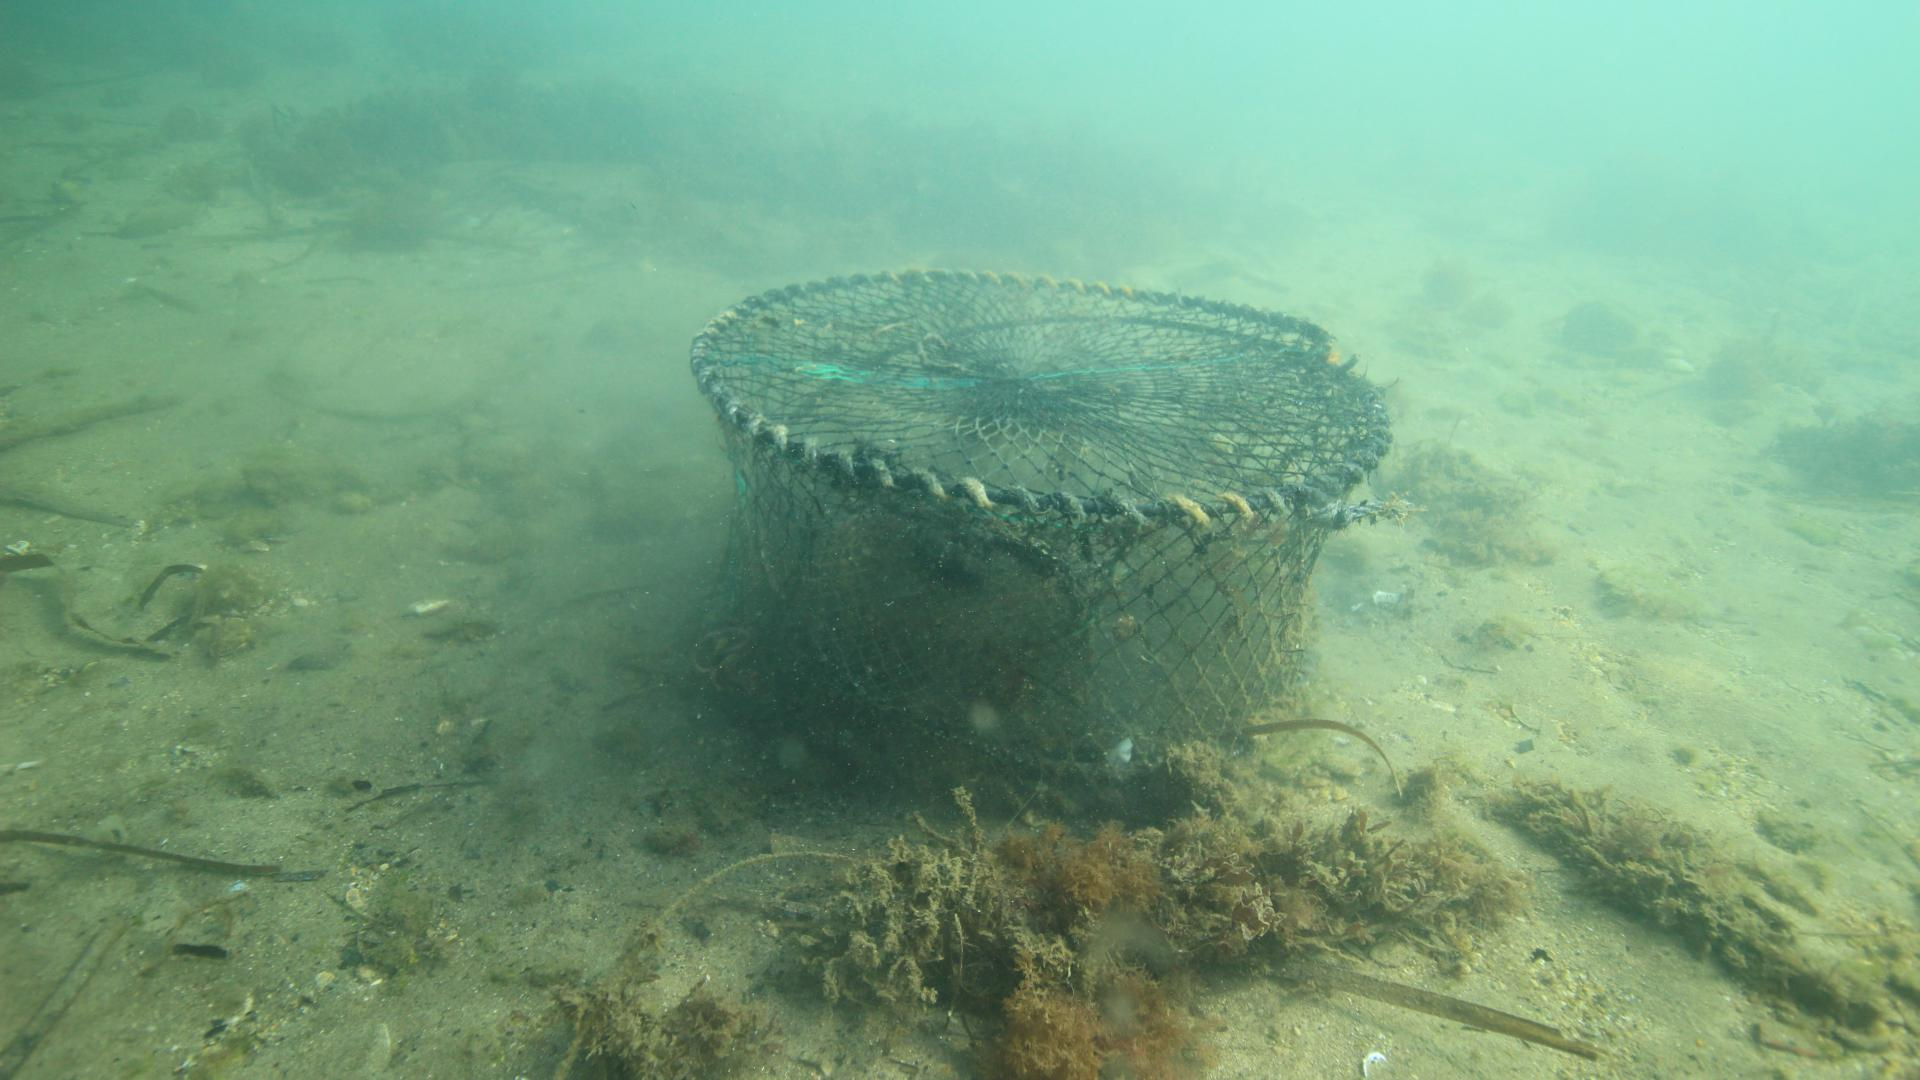circular fish trap: (686, 262, 1395, 778)
